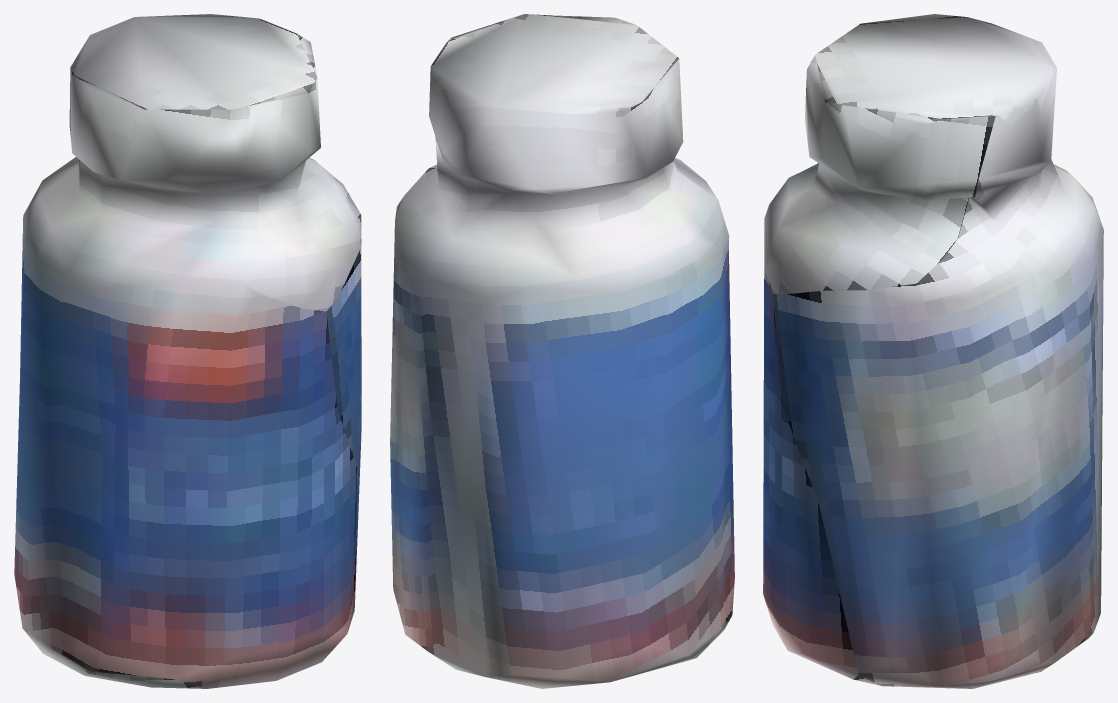
File: Krill_Oil-low.glb
The picture shows the model from 3 angles, left to right: view 1: azimuth 30°, elevation 25°; view 2: azimuth 150°, elevation 25°; view 3: azimuth 270°, elevation 25°; orthographic projection.
Visible parts, largest first — view 1: Krill_Oil; view 2: Krill_Oil; view 3: Krill_Oil.
Part boxes in pixels (x1,y1,x2,y2): Krill_Oil: (14, 14, 361, 688); Krill_Oil: (390, 14, 734, 688); Krill_Oil: (763, 14, 1103, 688).
Bounding box in the file's own units: 0.0539 × 0.0972 × 0.0532.
1 material, 1 textured.
